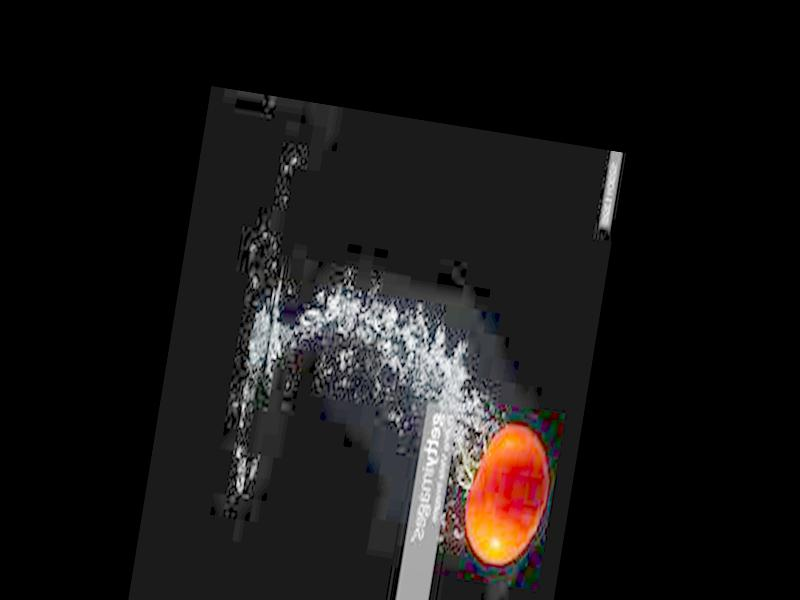Tomato: (457, 417, 554, 570)
